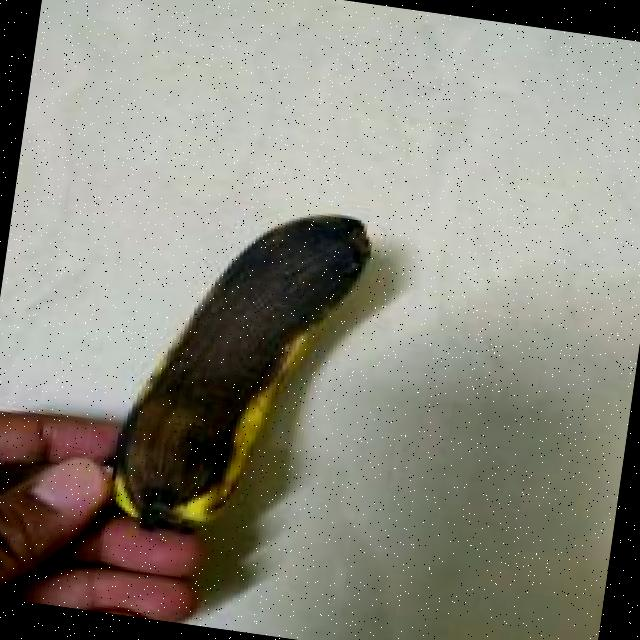Rotten: (38, 137, 410, 589)
